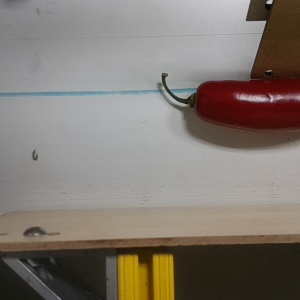Cut Point: (184, 80, 214, 121)
